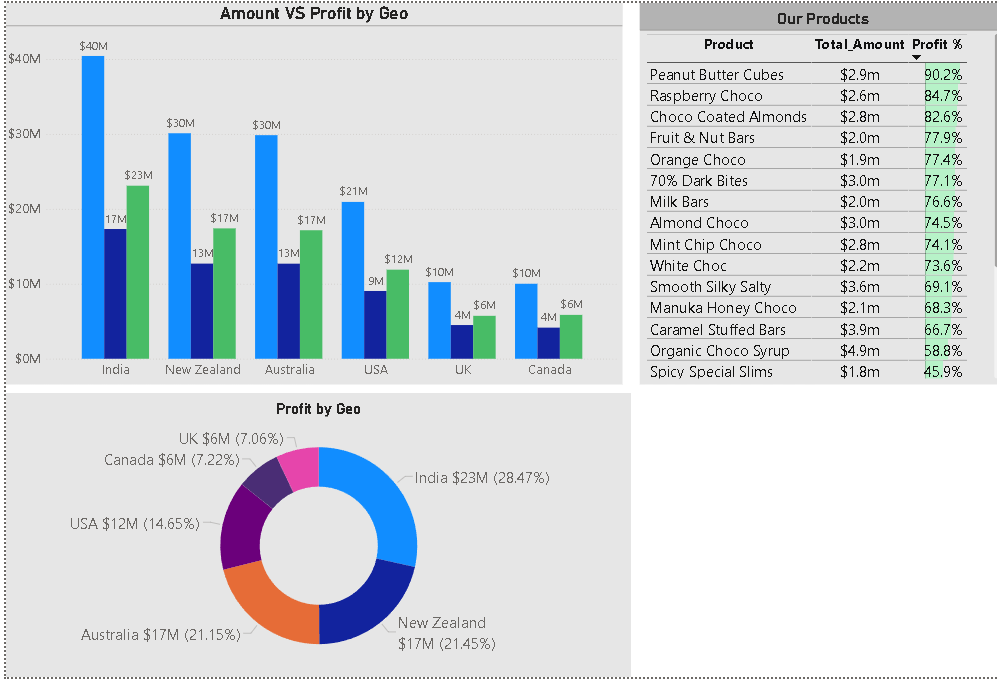

This screenshot's page, from the dashboard's own definition file:
{"tool":"powerbi","page":{"name":"Geo Analysis","canvas":[1920,1080],"ordinal":2},"visuals":[{"type":"clusteredColumnChart","title":"Amount VS Profit by Geo","fields":{"Category":["locations.Geo"],"Y":["shipments.Total_Amount","Sum(shipments.Cost_per_Shipment)","shipments.Profit"]},"box":[0,0,986,610],"z":1},{"type":"tableEx","title":"Our Products","fields":{"Values":["products.Product","shipments.Total_Amount","shipments.Profit %"]},"box":[1014,0,586,610],"z":2},{"type":"donutChart","title":"Profit by Geo","fields":{"Category":["locations.Geo"],"Y":["shipments.Profit"]},"box":[0,624,1000,456],"z":3}]}

Visuals, with their boxes on the page's 1920x1080 design canvas (x1, y1, x2, y2). These are canvas units, not pixel positions in the 997x679 screenshot, which may show the page scaled, cropped or inside an application window:
"Amount VS Profit by Geo" clusteredColumnChart: pyautogui.locateOnScreen(0, 0, 986, 610)
"Our Products" tableEx: pyautogui.locateOnScreen(1014, 0, 1600, 610)
"Profit by Geo" donutChart: pyautogui.locateOnScreen(0, 624, 1000, 1080)
